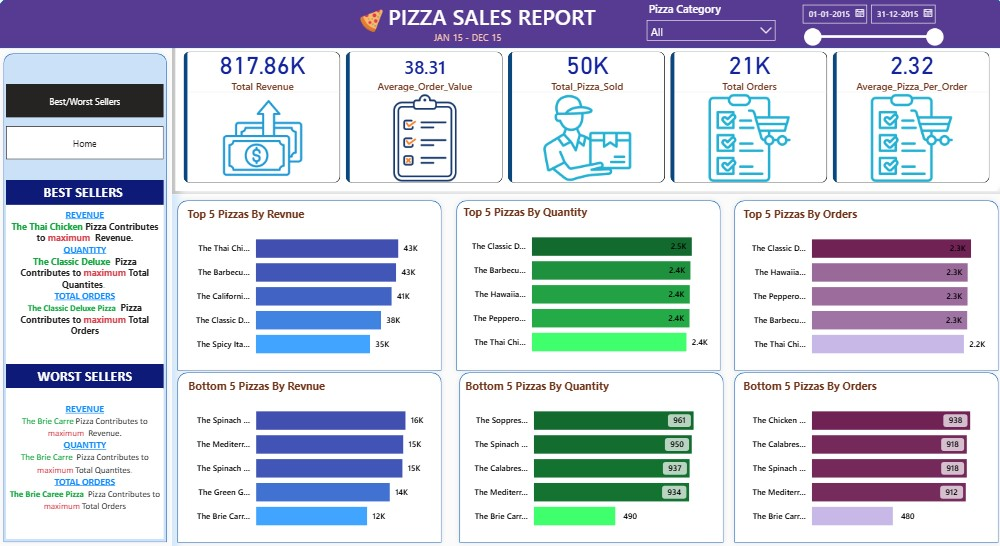

The page's visual inventory and layout, read from the dashboard file:
{"tool":"powerbi","page":{"name":"Best/Worst Sellers","canvas":[1500,820],"ordinal":1},"visuals":[{"type":"shape","box":[0,75,260,745],"z":0},{"type":"cardVisual","fields":{"Data":["pizza_db pizza_sales.Total Revenue","pizza_db pizza_sales.Average_Order_Value","pizza_db pizza_sales.Total_Pizza_Sold","pizza_db pizza_sales.Total Orders","pizza_db pizza_sales.Average_Pizza_Per_Order","pizza_db pizza_sales.Total_Pizza_Sold"]},"box":[260,63.3,1240,230],"z":1000},{"type":"shape","box":[0,0,1500,75],"z":2000},{"type":"textbox","box":[633.3,26.7,133.3,48.3],"z":3000},{"type":"image","box":[523.3,16.7,66.7,35],"z":4000},{"type":"shape","box":[260,293.3,410,270],"z":5000},{"type":"textbox","box":[11.7,271.7,235,36.7],"z":6000},{"type":"textbox","box":[576.7,0,380,53.3],"z":7000},{"type":"textbox","box":[11.7,308.3,235,241.7],"z":8000},{"type":"textbox","box":[11.7,545,235,36.7],"z":9000},{"type":"textbox","box":[11.7,581.7,235,225],"z":10000},{"type":"slicer","fields":{"Values":["pizza_db pizza_sales.pizza_category"]},"box":[956.7,0,211.7,78.3],"z":11000},{"type":"slicer","fields":{"Values":["pizza_db pizza_sales.order_date"]},"box":[1186.7,0,231.7,78.3],"z":12000},{"type":"shape","box":[675,293.3,410,270],"z":13000},{"type":"shape","box":[1090,293.3,410,270],"z":14000},{"type":"shape","box":[260,550,410,270],"z":15000},{"type":"shape","box":[680,550,410,270],"z":16000},{"type":"shape","box":[1090,550,410,270],"z":17000},{"type":"barChart","title":"Top 5 Pizzas By Revnue","fields":{"Category":["pizza_db pizza_sales.pizza_name"],"Y":["pizza_db pizza_sales.Total Revenue"]},"box":[276.7,311.7,375,238.3],"z":18000},{"type":"barChart","title":"Bottom 5 Pizzas By Revnue","fields":{"Category":["pizza_db pizza_sales.pizza_name"],"Y":["pizza_db pizza_sales.Total Revenue"]},"box":[278.3,568.3,373.3,238.3],"z":19000},{"type":"barChart","title":"Top 5 Pizzas By Quantity","fields":{"Category":["pizza_db pizza_sales.pizza_name"],"Y":["pizza_db pizza_sales.Total_Pizza_Sold"]},"box":[688.3,308.3,375,238.3],"z":20000},{"type":"barChart","title":"Bottom 5 Pizzas By Quantity","fields":{"Category":["pizza_db pizza_sales.pizza_name"],"Y":["pizza_db pizza_sales.Total_Pizza_Sold"]},"box":[691.7,568.3,375,238.3],"z":21000},{"type":"barChart","title":"Top 5 Pizzas By Orders","fields":{"Category":["pizza_db pizza_sales.pizza_name"],"Y":["pizza_db pizza_sales.Total Orders"]},"box":[1106.7,311.7,375,238.3],"z":22000},{"type":"barChart","title":"Bottom 5 Pizzas By Orders","fields":{"Category":["pizza_db pizza_sales.pizza_name"],"Y":["pizza_db pizza_sales.Total Orders"]},"box":[1106.7,568.3,375,238.3],"z":23000},{"type":"pageNavigator","box":[11.2,128.8,235,50],"z":23001},{"type":"pageNavigator","box":[12.5,191.2,235,50],"z":23002}]}

Visuals, with their boxes in screenshot pixels (x1, y1, x2, y2), scaled from the page's 1500x820 canvas onto the 1000x546 screenshot:
shape: l=0, t=50, r=173, b=545
cardVisual - pizza_db pizza_sales.Total Revenue x pizza_db pizza_sales.Average_Order_Value: l=173, t=42, r=999, b=195
shape: l=0, t=0, r=999, b=50
textbox: l=422, t=18, r=511, b=50
image: l=349, t=11, r=393, b=34
shape: l=173, t=195, r=447, b=375
textbox: l=8, t=181, r=164, b=205
textbox: l=384, t=0, r=638, b=35
textbox: l=8, t=205, r=164, b=366
textbox: l=8, t=363, r=164, b=387
textbox: l=8, t=387, r=164, b=537
slicer - pizza_db pizza_sales.pizza_category: l=638, t=0, r=779, b=52
slicer - pizza_db pizza_sales.order_date: l=791, t=0, r=946, b=52
shape: l=450, t=195, r=723, b=375
shape: l=727, t=195, r=999, b=375
shape: l=173, t=366, r=447, b=545
shape: l=453, t=366, r=727, b=545
shape: l=727, t=366, r=999, b=545
"Top 5 Pizzas By Revnue" barChart: l=184, t=208, r=434, b=366
"Bottom 5 Pizzas By Revnue" barChart: l=186, t=378, r=434, b=537
"Top 5 Pizzas By Quantity" barChart: l=459, t=205, r=709, b=364
"Bottom 5 Pizzas By Quantity" barChart: l=461, t=378, r=711, b=537
"Top 5 Pizzas By Orders" barChart: l=738, t=208, r=988, b=366
"Bottom 5 Pizzas By Orders" barChart: l=738, t=378, r=988, b=537
pageNavigator: l=7, t=86, r=164, b=119
pageNavigator: l=8, t=127, r=165, b=161
